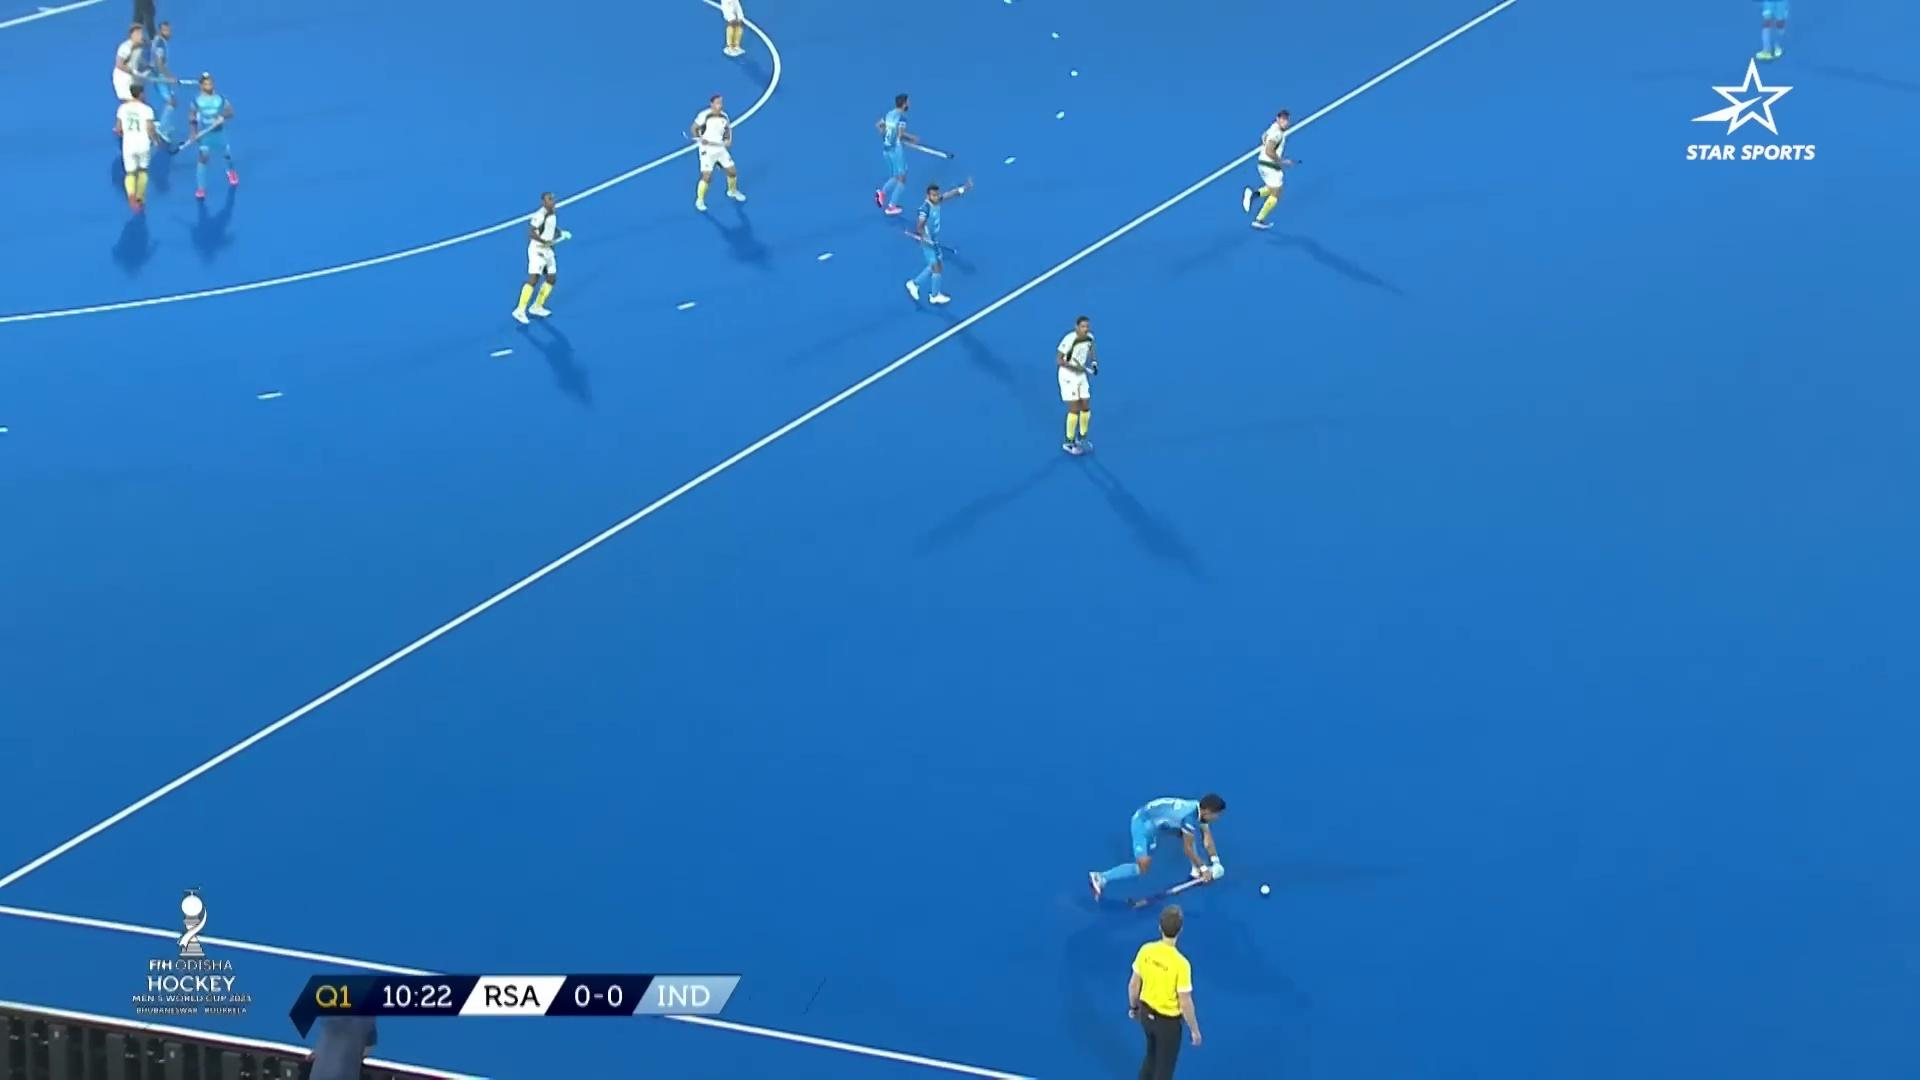ball: (1246, 872, 1279, 903)
